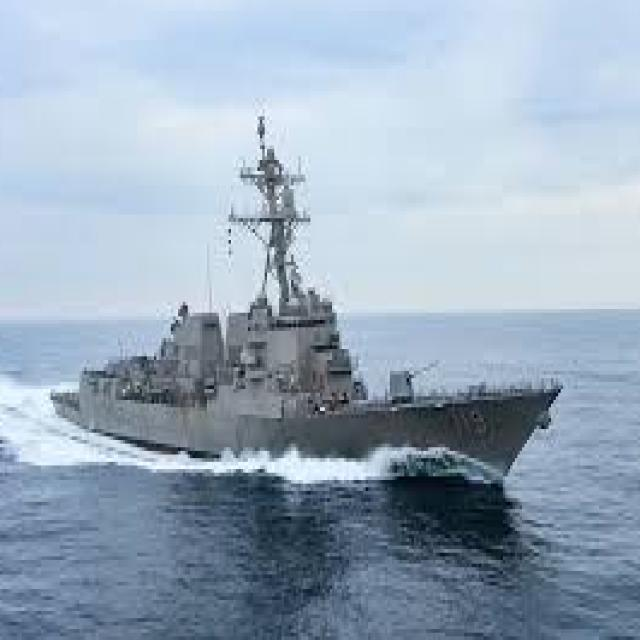navalvessels: (51, 116, 576, 521)
